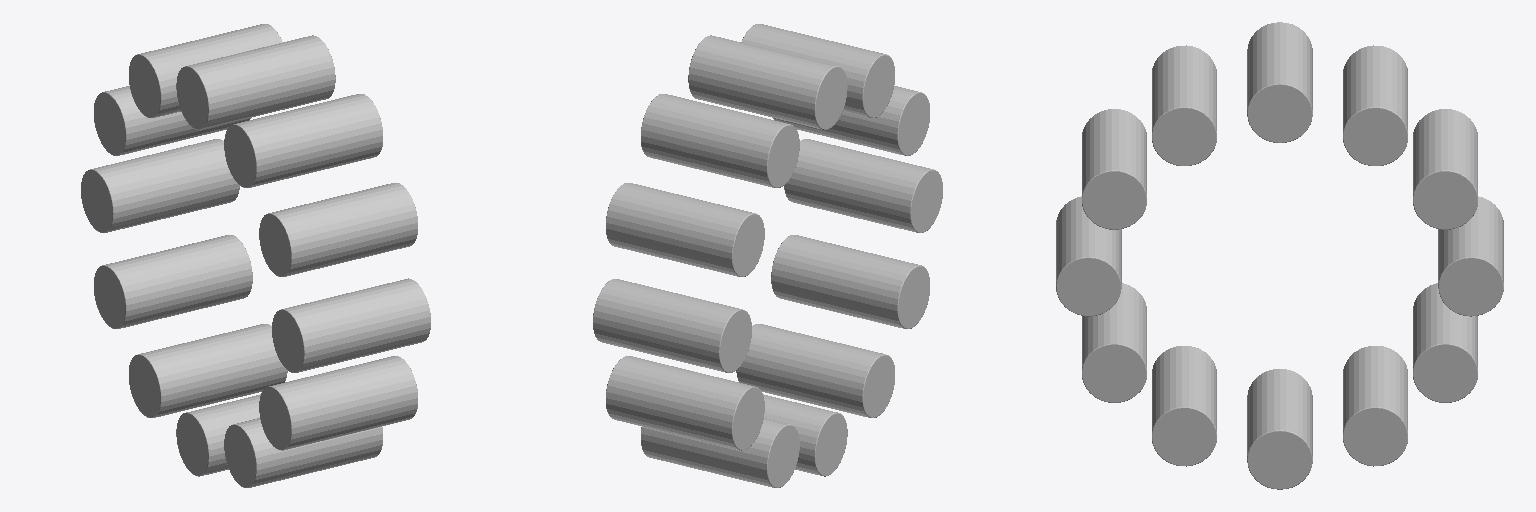
Rendered from Kuglelager-vorne-3.obj.
3 views of the same model, side by side, from view 1: azimuth 30°, elevation 25°; view 2: azimuth 150°, elevation 25°; view 3: azimuth 270°, elevation 25° (orthographic).
Visible parts, largest first — view 1: Cylinder.004_Cylinder.005; view 2: Cylinder.004_Cylinder.005; view 3: Cylinder.004_Cylinder.005.
Boxes of the visible parts, x1=… form: Cylinder.004_Cylinder.005: x1=81, y1=24, x2=430, y2=487; Cylinder.004_Cylinder.005: x1=593, y1=24, x2=942, y2=487; Cylinder.004_Cylinder.005: x1=1056, y1=22, x2=1503, y2=489.
Bounding box in the file's own units: 0.0168 × 0.0513 × 0.0513.